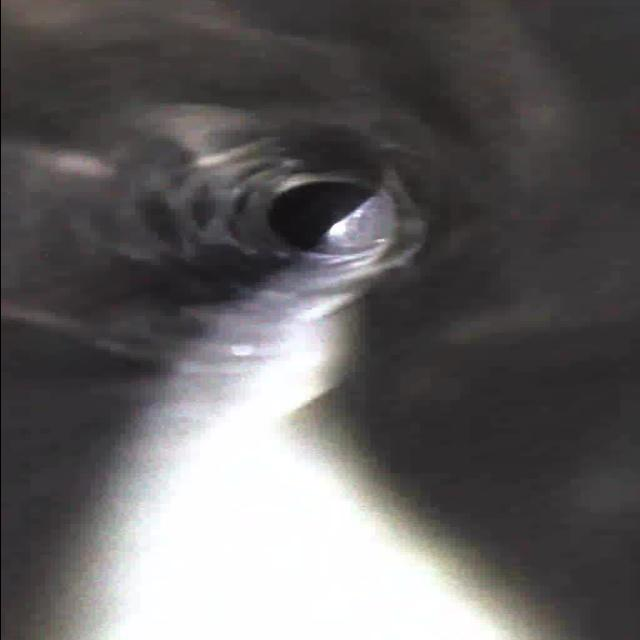crack: (185, 122, 371, 174), (135, 186, 252, 253)
